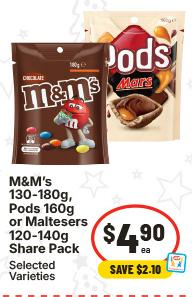description_block: (6, 172, 91, 257)
price_main: (91, 203, 182, 260)
product_image_block: (4, 4, 184, 167)
promo_text_block: (91, 256, 173, 282)
